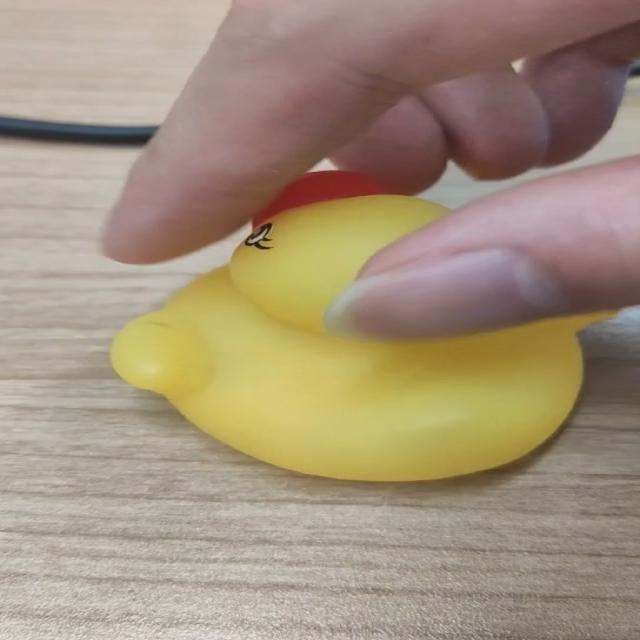rubber-duck: (109, 194, 609, 479)
